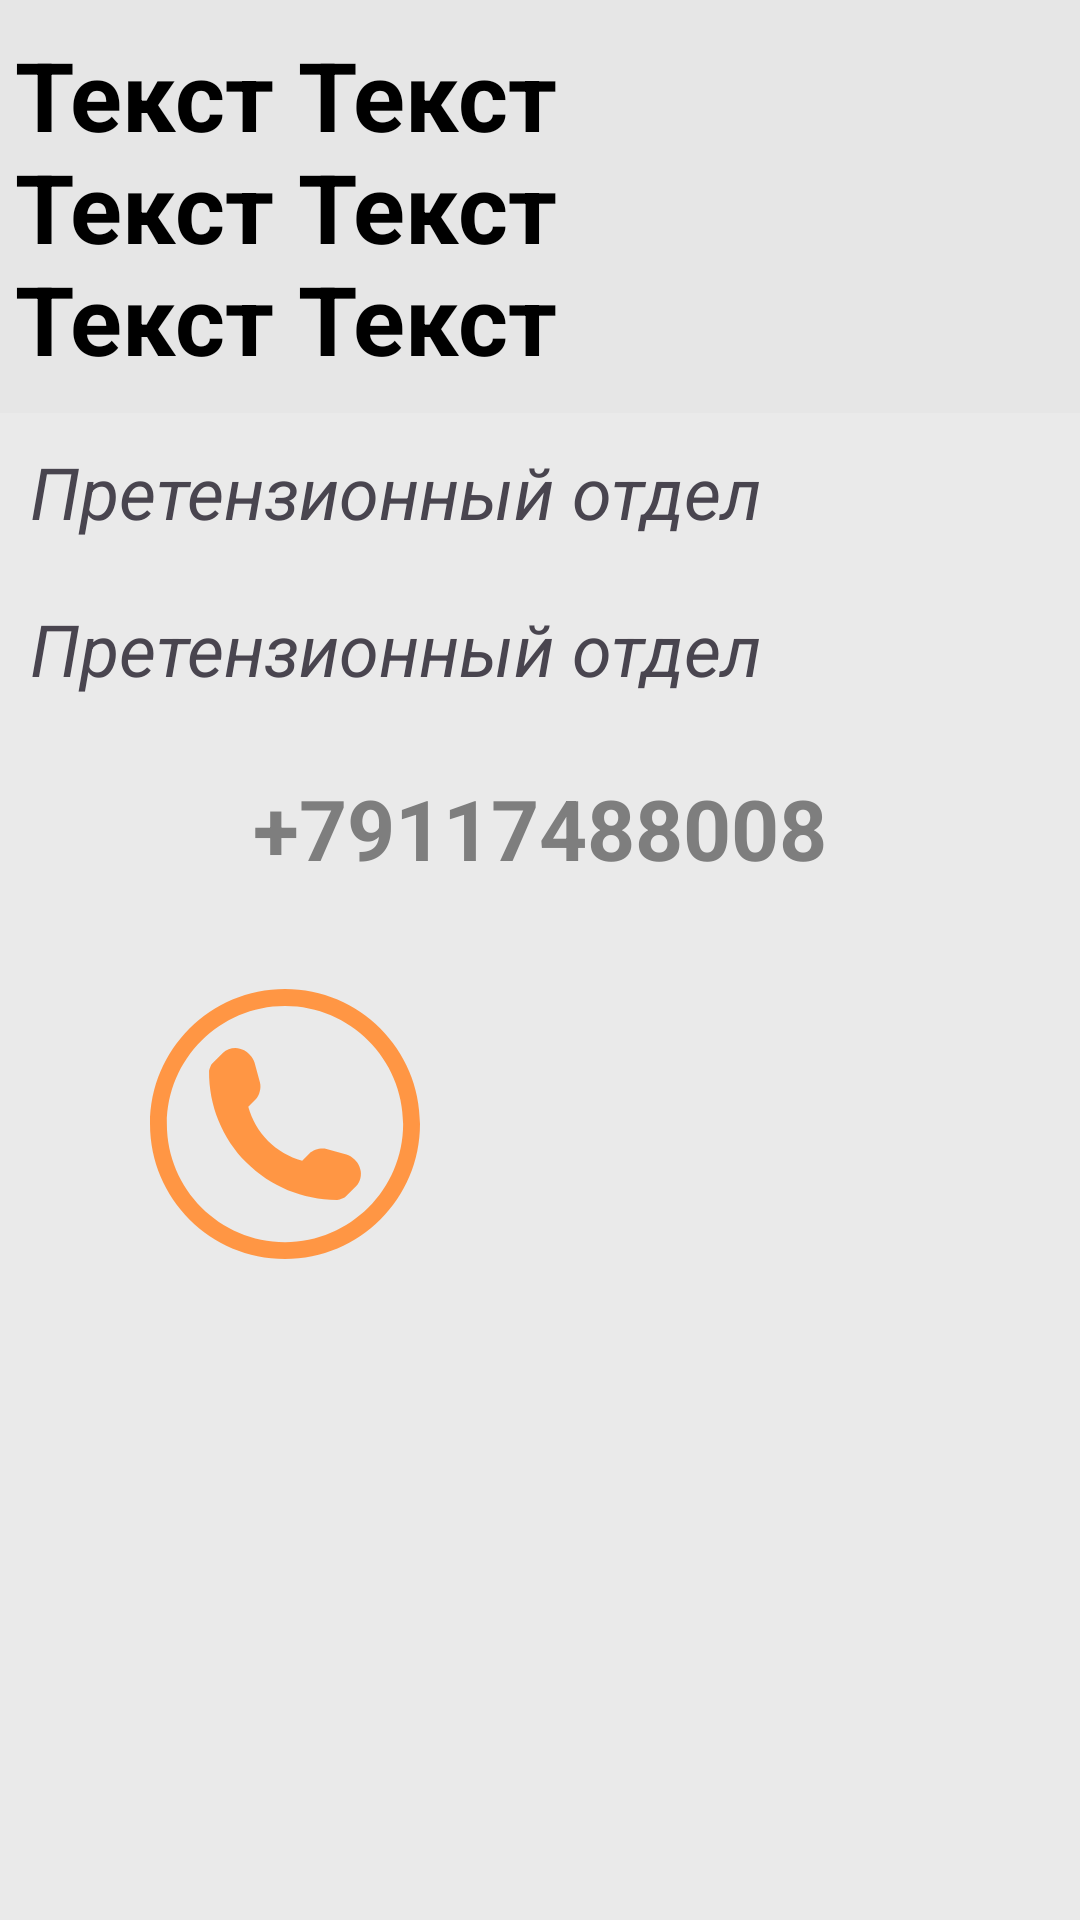

Named icons in this screenshot (1080 × 1920) and their centers, point (x, y):
phone: point (285, 1124)
